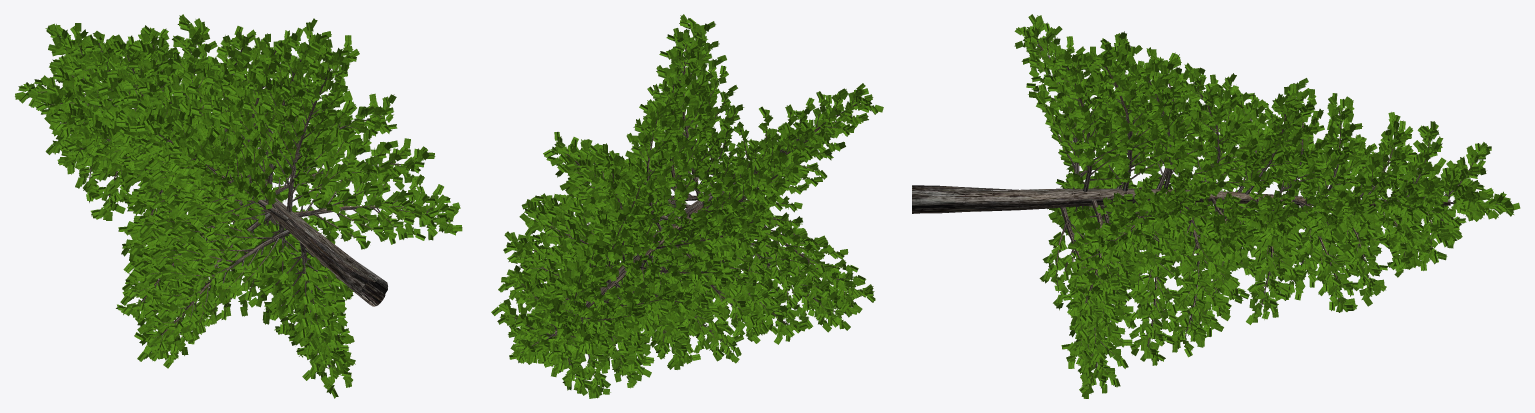
File: tree2.FBX
3 renders of one model, left to right at view 1: azimuth 30°, elevation 25°; view 2: azimuth 150°, elevation 25°; view 3: azimuth 270°, elevation 25°, orthographic. The views are drawn at different scales.
Visible parts, largest first — view 1: Foliage001; view 2: Foliage001; view 3: Foliage001.
Boxes of the visible parts, x1=… form: Foliage001: x1=15, y1=14, x2=462, y2=398; Foliage001: x1=491, y1=14, x2=883, y2=398; Foliage001: x1=912, y1=14, x2=1520, y2=398.
Size of the model in its own units: 62.38 by 65.77 by 103.
Materials: 2 (2 with a texture image).
